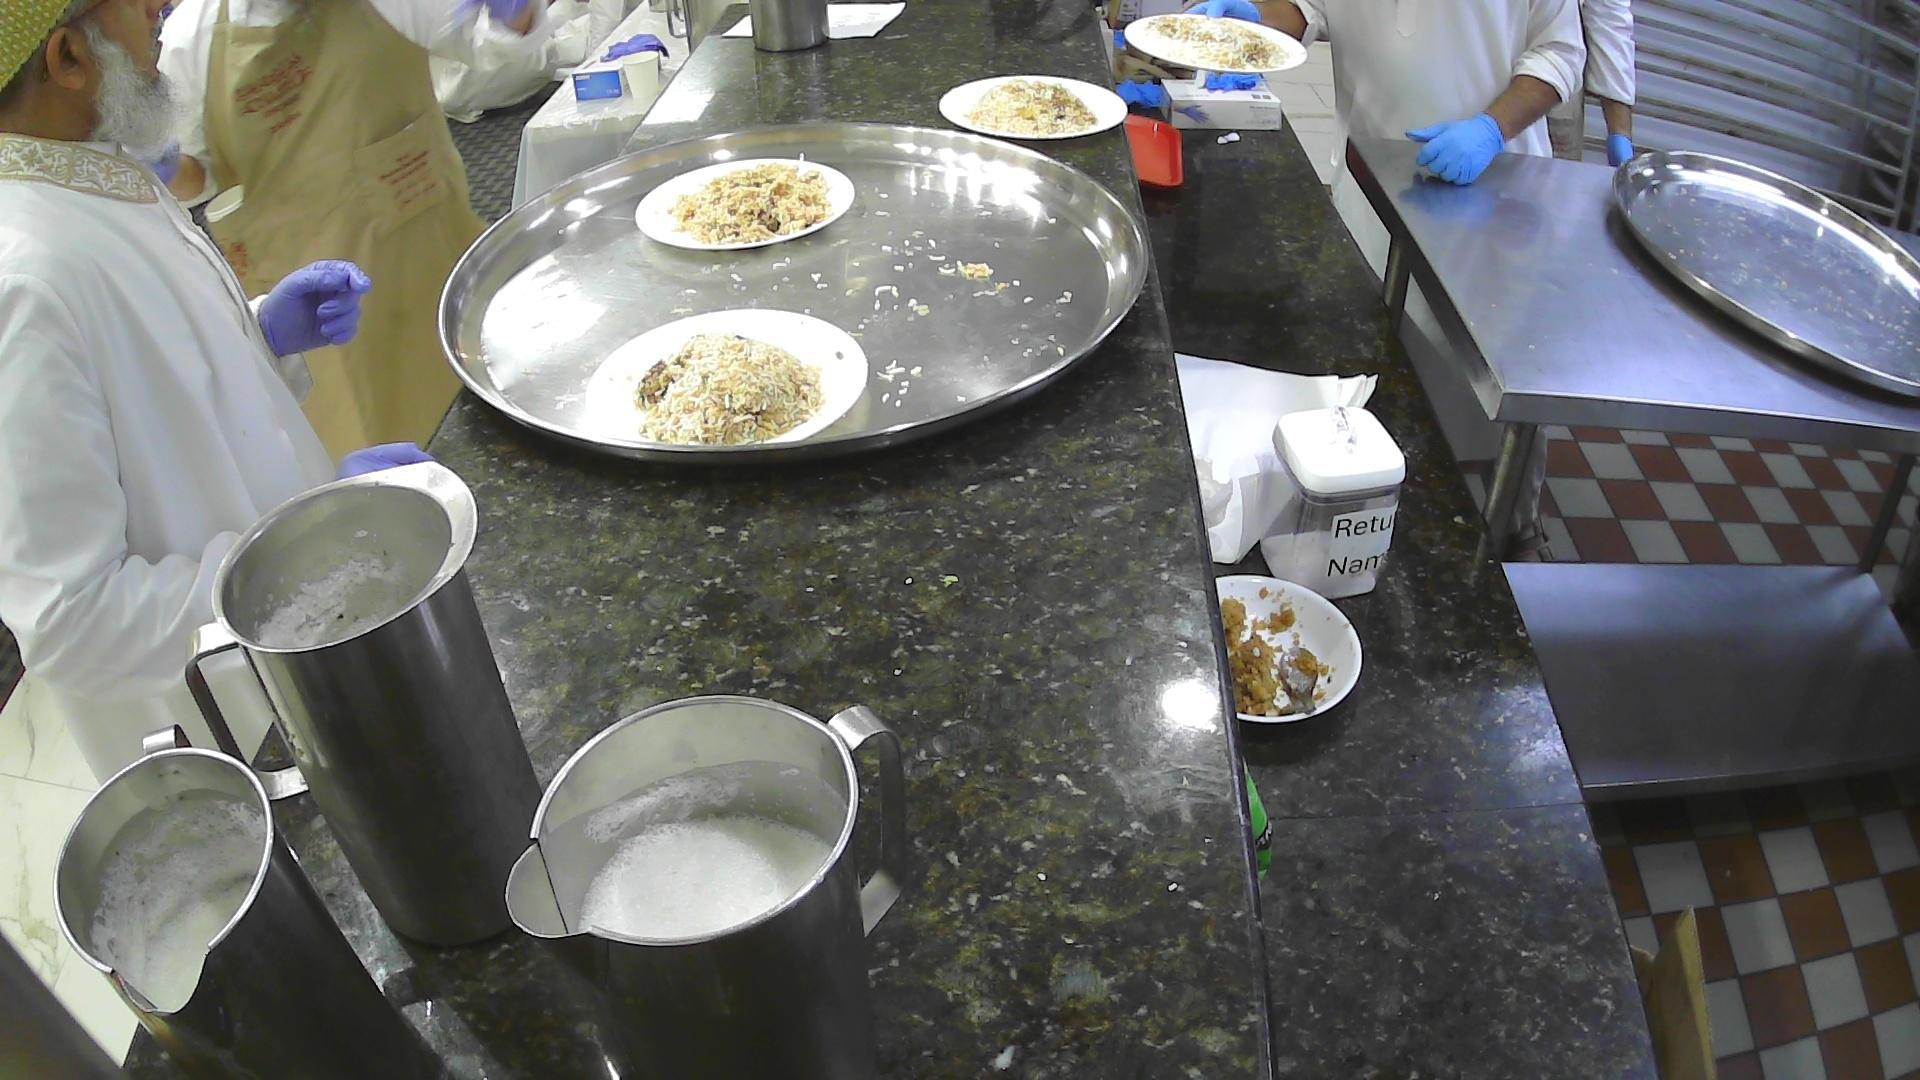thaal: (436, 119, 1151, 469), (1610, 148, 1920, 405)
